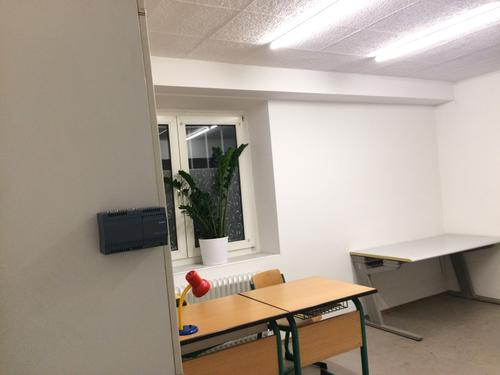iot2000: (96, 205, 169, 255)
